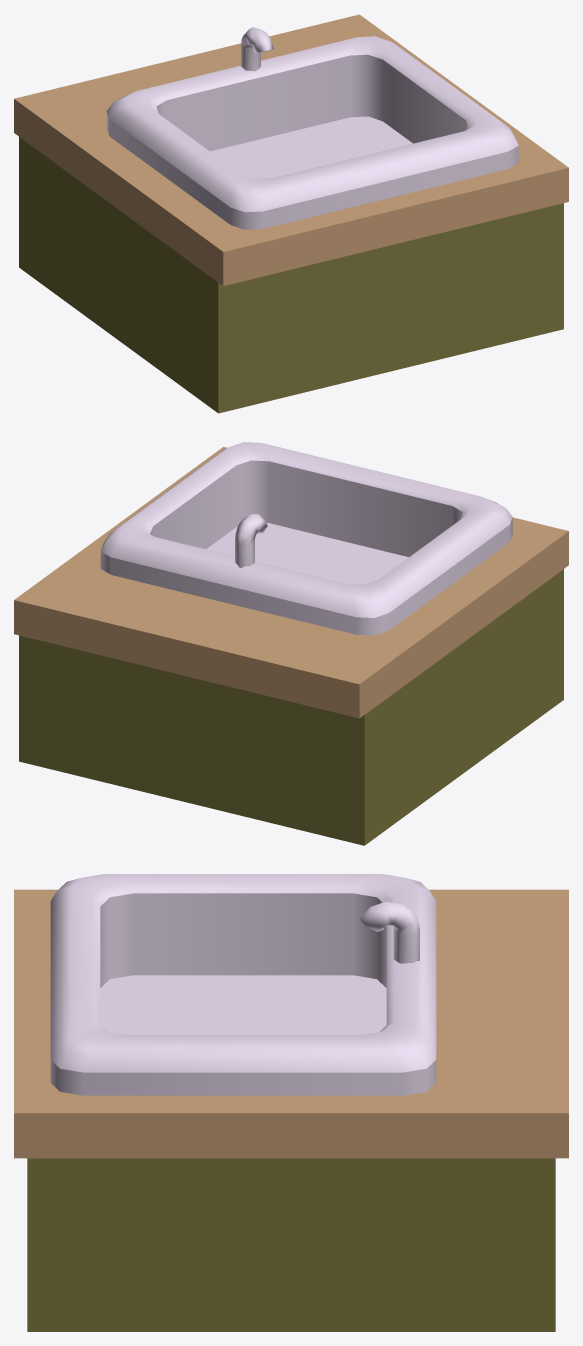
Rendered from sink.fbx.
3 views of the same model, one above another, from view 1: azimuth 30°, elevation 25°; view 2: azimuth 150°, elevation 25°; view 3: azimuth 270°, elevation 25° (orthographic). The views are drawn at different scales.
Parts seen in each view (by area): view 1: Sink; view 2: Sink; view 3: Sink.
Boxes of the visible parts, x1,y1,x2,y2 form: Sink: [14, 14, 568, 413]; Sink: [14, 442, 568, 845]; Sink: [14, 874, 568, 1331].
Bounding box in the file's own units: 120 × 80.28 × 126.
2 materials, 1 textured.
